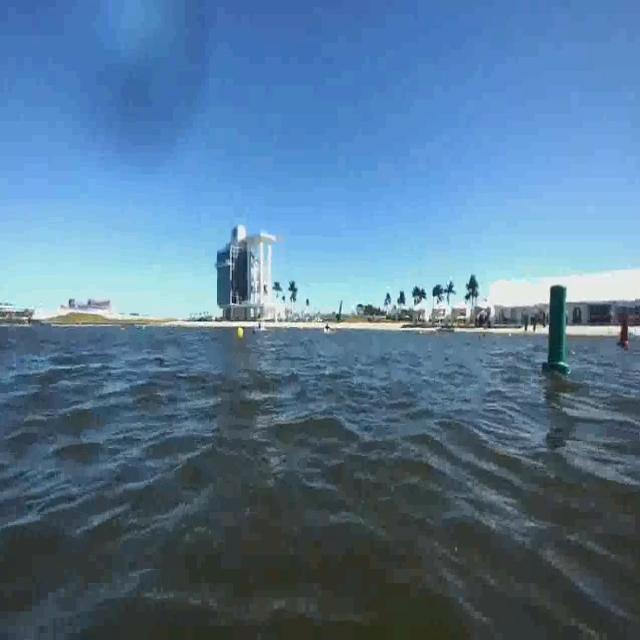green-column-buoy: (542, 282, 571, 377)
